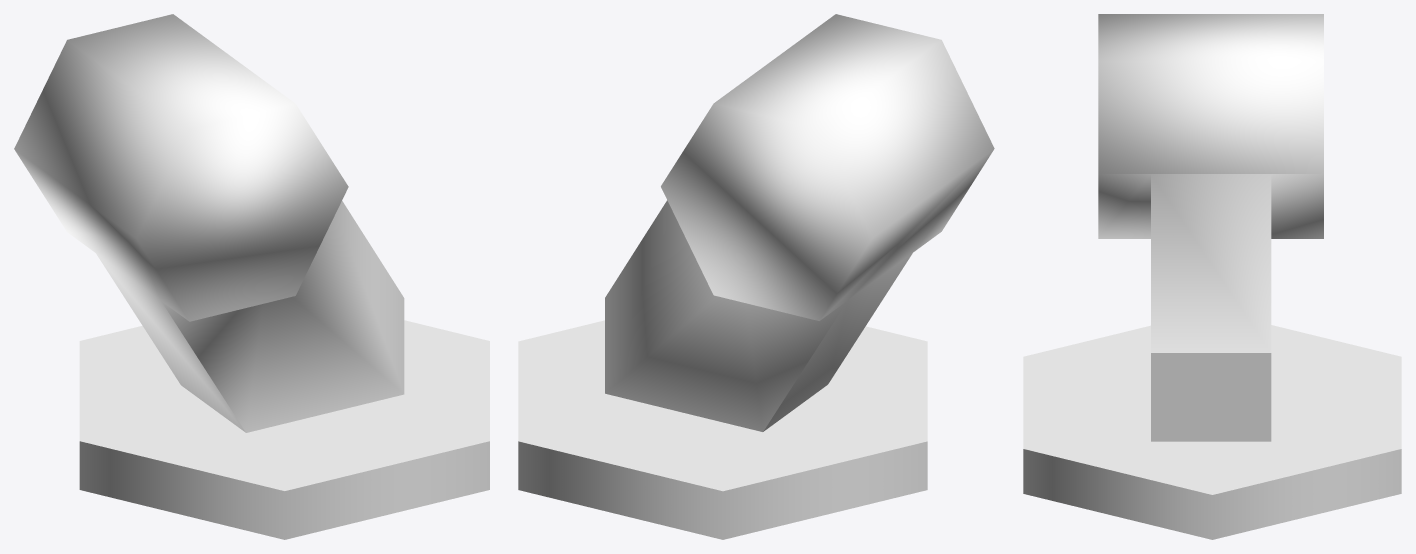
The model's file is turmw1.obj.
The picture shows the model from 3 angles, left to right: view 1: azimuth 30°, elevation 25°; view 2: azimuth 150°, elevation 25°; view 3: azimuth 270°, elevation 25°; orthographic projection. The views are drawn at different scales.
Visible parts, largest first — view 1: cube2_sep90; view 2: cube2_sep90; view 3: cube2_sep90.
Boxes of the visible parts, x1,y1,x2,y2 form: cube2_sep90: (14, 14, 489, 539); cube2_sep90: (518, 14, 994, 539); cube2_sep90: (1023, 14, 1401, 539).
Bounding box in the file's own units: 4.36 × 3.95 × 3.73.
Materials: 1 (1 with a texture image).
